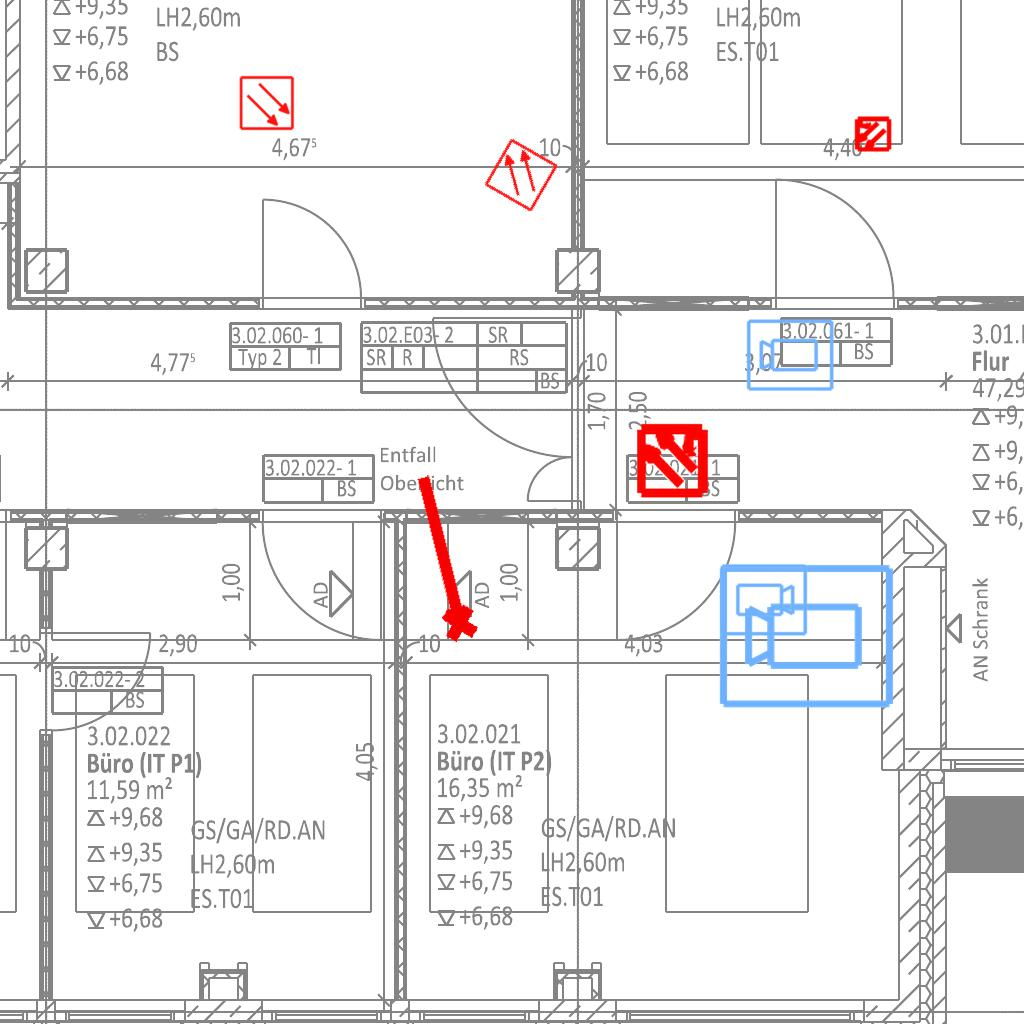ASR_Ansaugoeffnung: (397, 467, 485, 649)
KFO_Kamera_mit_Festobjektiv: (716, 558, 898, 712), (745, 316, 836, 393), (718, 562, 809, 639)
OT_Multisensormelder_(Kombination_RMO_WMD): (616, 402, 729, 515), (844, 106, 900, 162)
RMO_Rauchmelder_optischer: (482, 136, 560, 214), (239, 75, 295, 131)
